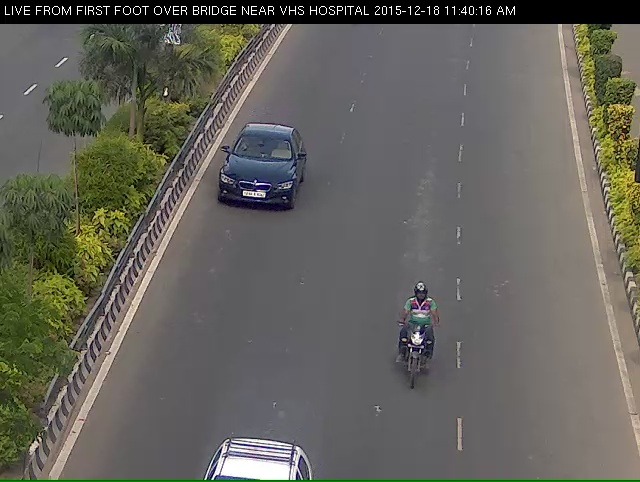Car: (211, 132, 299, 231)
Person: (386, 300, 442, 422)
